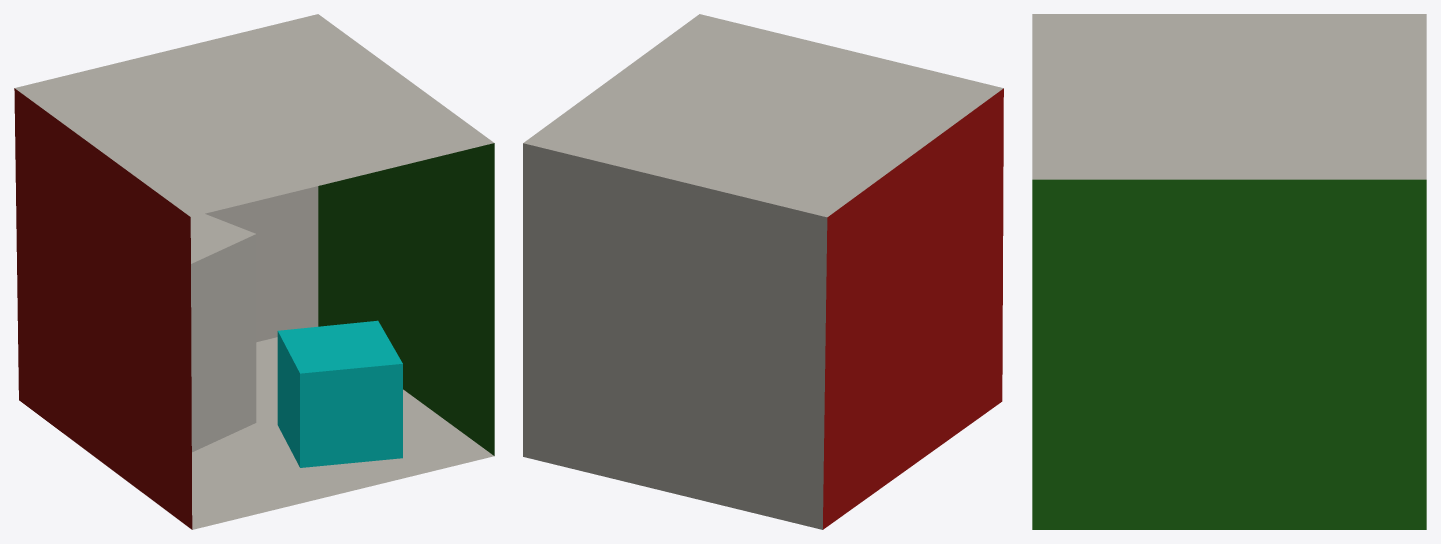
Rendered from cornell_pbr.obj.
The picture shows the model from 3 angles, left to right: view 1: azimuth 30°, elevation 25°; view 2: azimuth 150°, elevation 25°; view 3: azimuth 270°, elevation 25°; orthographic projection. The views are drawn at different scales.
Parts seen in each view (by area): view 1: cornell.001; view 2: cornell.001; view 3: cornell.001.
Boxes of the visible parts, left/top/right/bottom form: cornell.001: left=14, top=14, right=494, bottom=529; cornell.001: left=523, top=14, right=1003, bottom=529; cornell.001: left=1032, top=14, right=1426, bottom=529.
Size of the model in its own units: 2.02 by 1.99 by 2.03.
